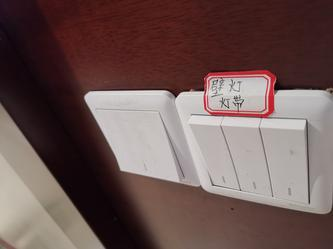switch: (93, 100, 184, 186), (256, 115, 321, 205), (218, 112, 282, 200), (188, 109, 242, 194)
